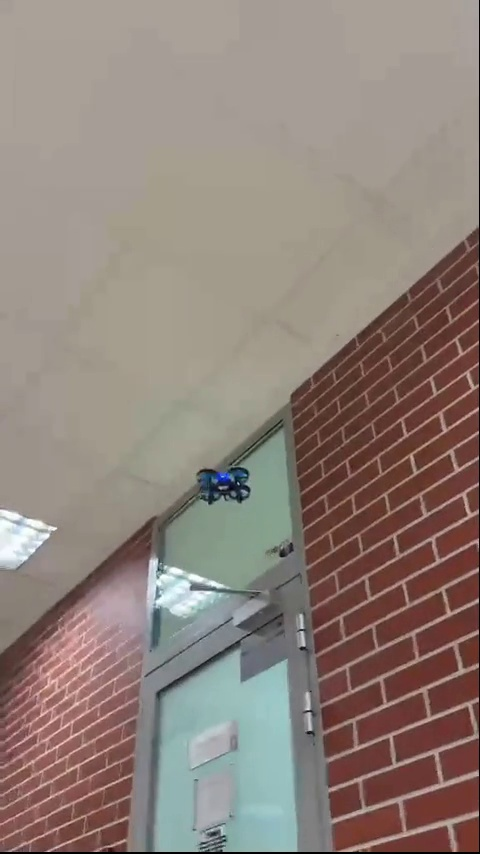drone: (200, 472, 258, 508)
